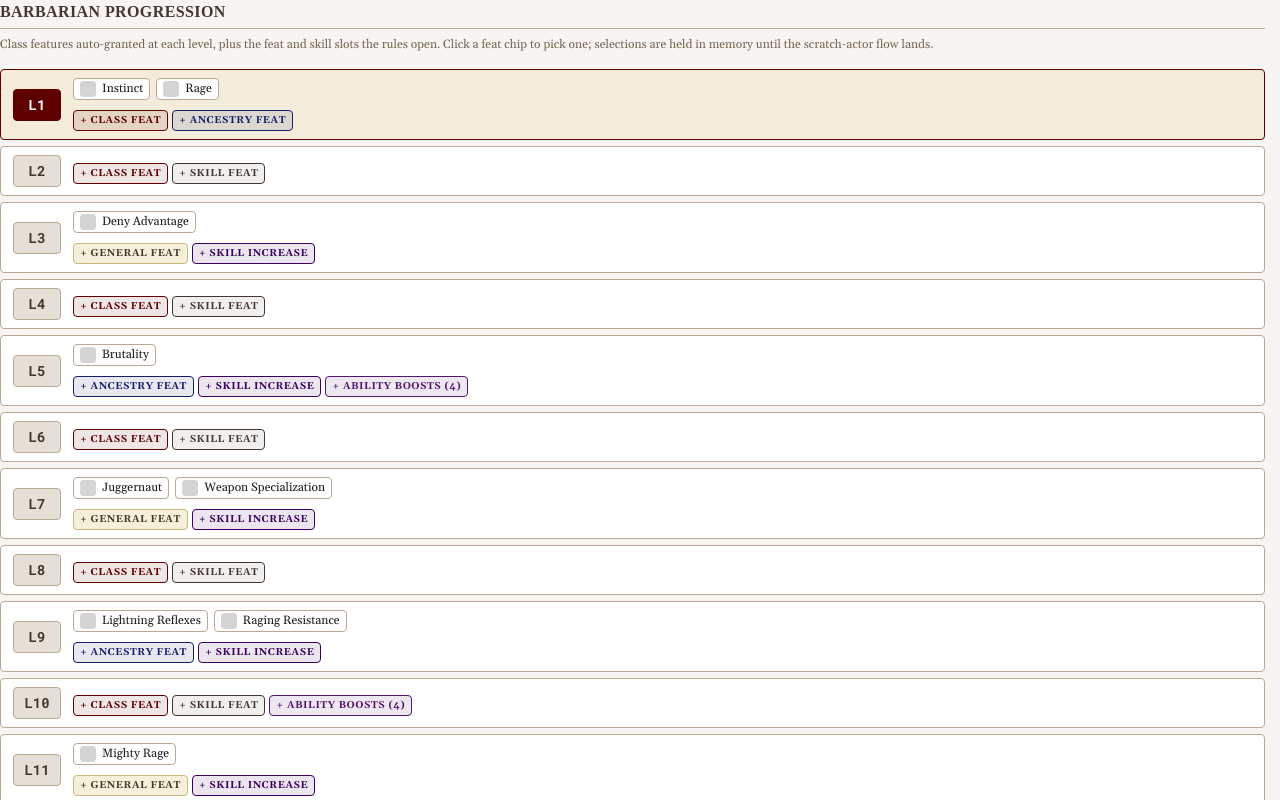
Test: Progression tab › opens the picker when a class-feat slot chip is clicked
What coordinates should you click on to do the following:
click the button with test id "slot-open-picker"
I would click on:
 (120, 120)
Its box is x1=73 y1=110 x2=168 y2=131.
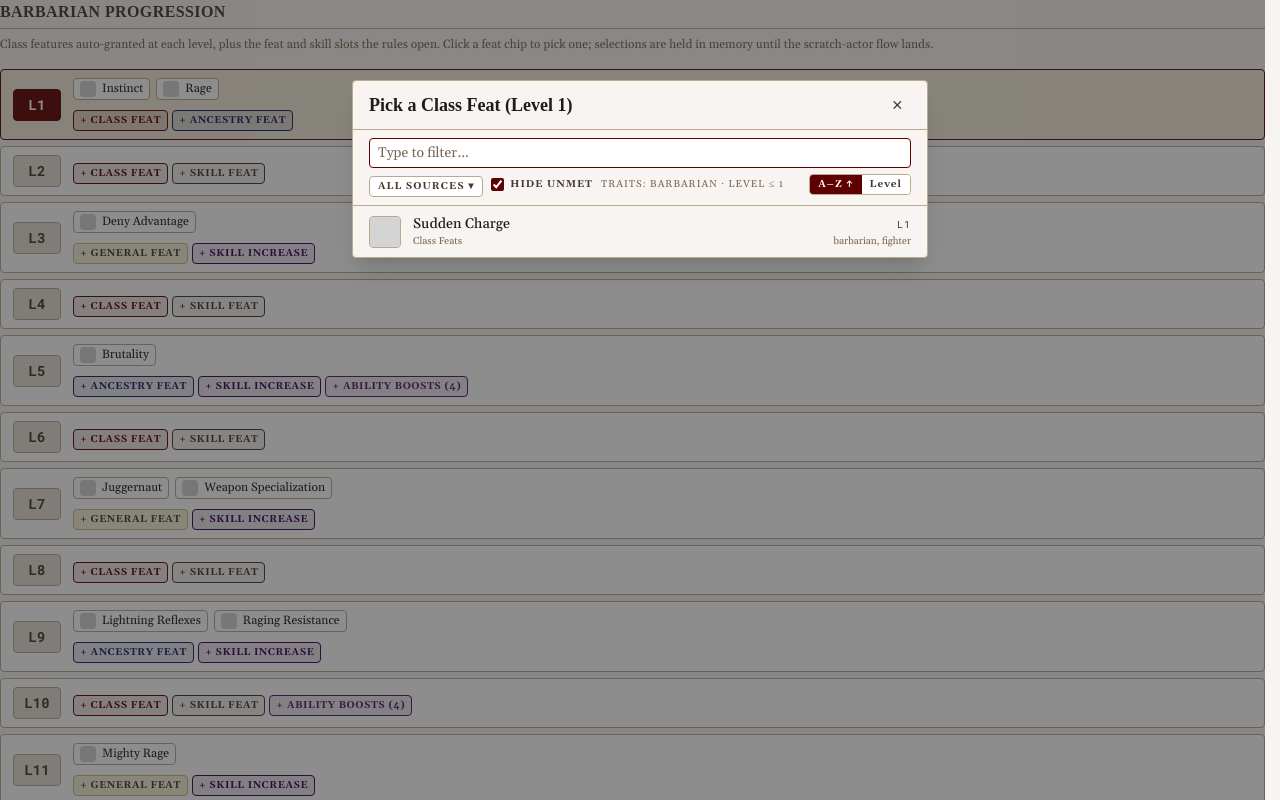
expect the dialog with test id "feat-picker" is shown: met
